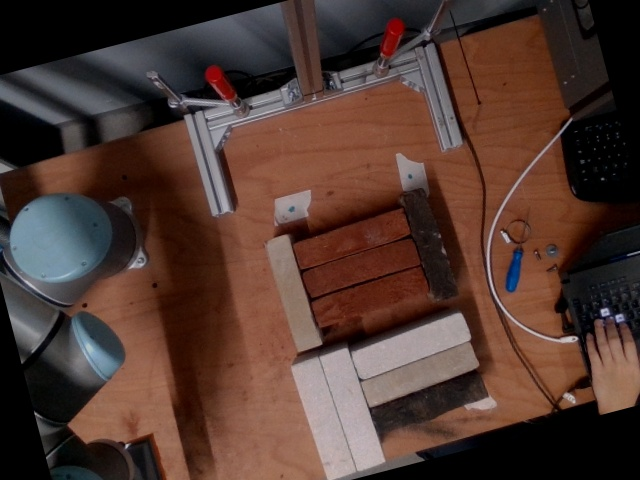brick-side: (351, 311, 471, 381), (358, 341, 479, 409), (319, 349, 386, 470), (288, 359, 355, 479), (368, 368, 488, 435), (294, 211, 410, 269), (314, 268, 429, 326), (305, 238, 418, 295), (400, 190, 457, 302), (265, 237, 320, 350), (639, 168, 639, 291), (639, 232, 639, 258)
